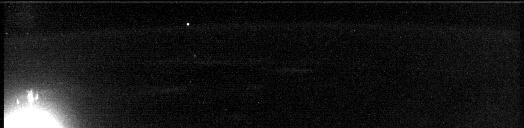positive: (13, 87, 40, 108)
